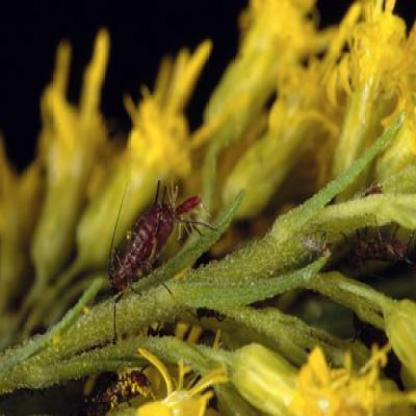aphid: (89, 174, 211, 318), (330, 211, 416, 282), (85, 362, 151, 416)
